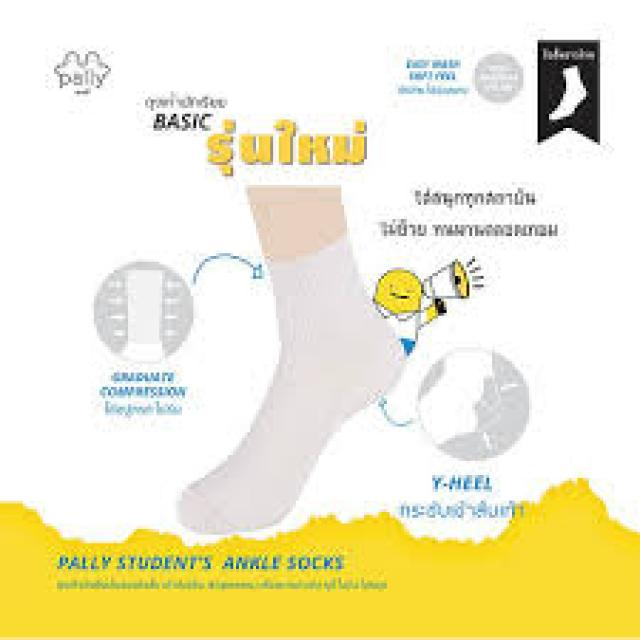sock: (176, 182, 407, 535)
